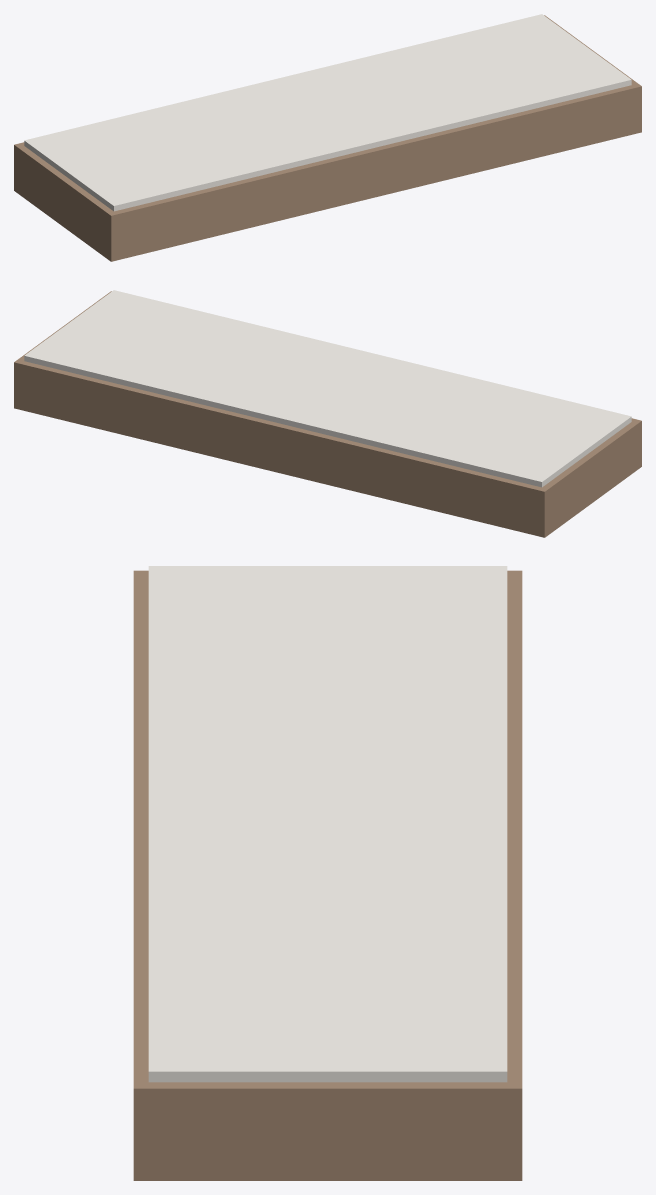
File: dastarkhan.glb
The picture shows the model from 3 angles, top to bottom: view 1: azimuth 30°, elevation 25°; view 2: azimuth 150°, elevation 25°; view 3: azimuth 270°, elevation 25°; orthographic projection. The views are drawn at different scales.
Visible parts, largest first — view 1: dastarkhan_table, dastarkhan_left, dastarkhan_right; view 2: dastarkhan_table, dastarkhan_left, dastarkhan_right; view 3: dastarkhan_right, dastarkhan_left, dastarkhan_table.
Boxes of the visible parts, x1,y1,x2,y2 form: dastarkhan_table: (14,15,641,261); dastarkhan_left: (24,77,372,211); dastarkhan_right: (283,14,631,148); dastarkhan_table: (14,291,641,537); dastarkhan_left: (283,353,631,487); dastarkhan_right: (24,290,372,424); dastarkhan_right: (148,819,507,1082); dastarkhan_left: (148,566,507,818); dastarkhan_table: (133,570,522,1180).
Bounding box in the file's own units: 4.1 × 0.38 × 1.3.
